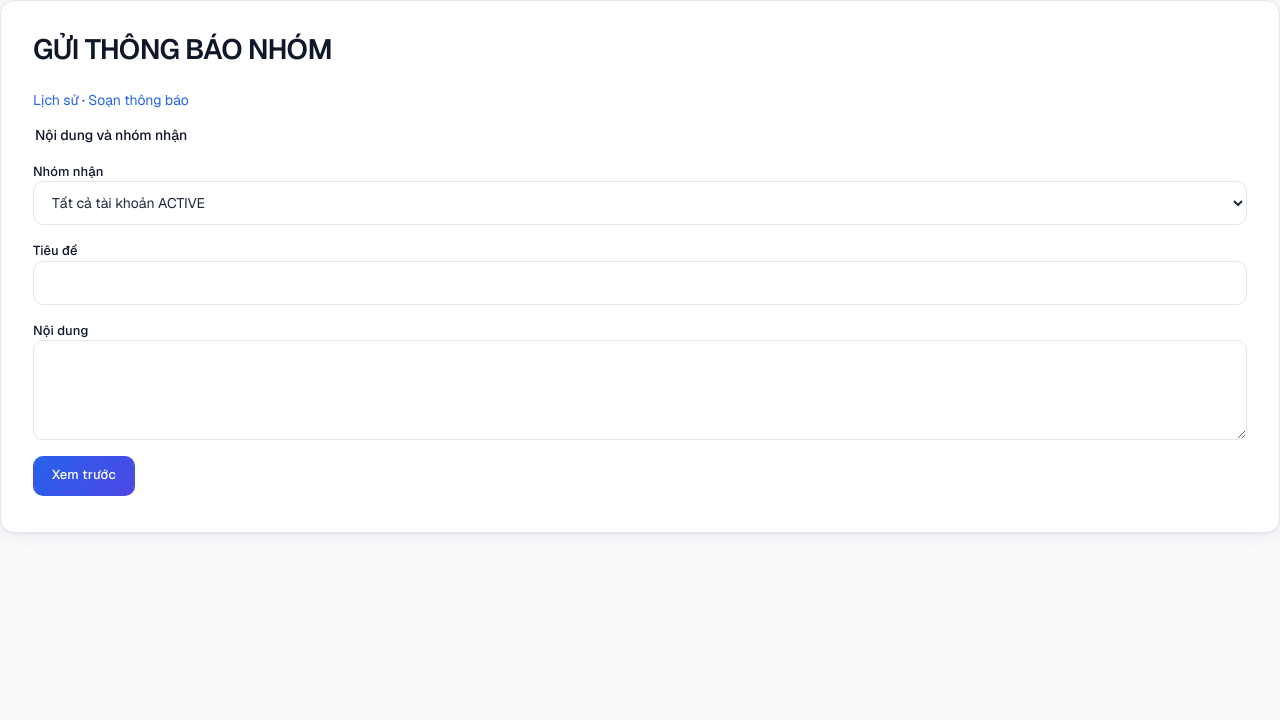
Test: US-48: giao diện preview/confirm/resolve › PREVIEW_STALE yêu cầu preview lại, không giữ nút gửi cũ
The width and height of the screenshot is (1280, 720).
In the field labelled "Tiêu đề": (640, 283) [33, 261, 1247, 305], type "<b>Lịch</b>"
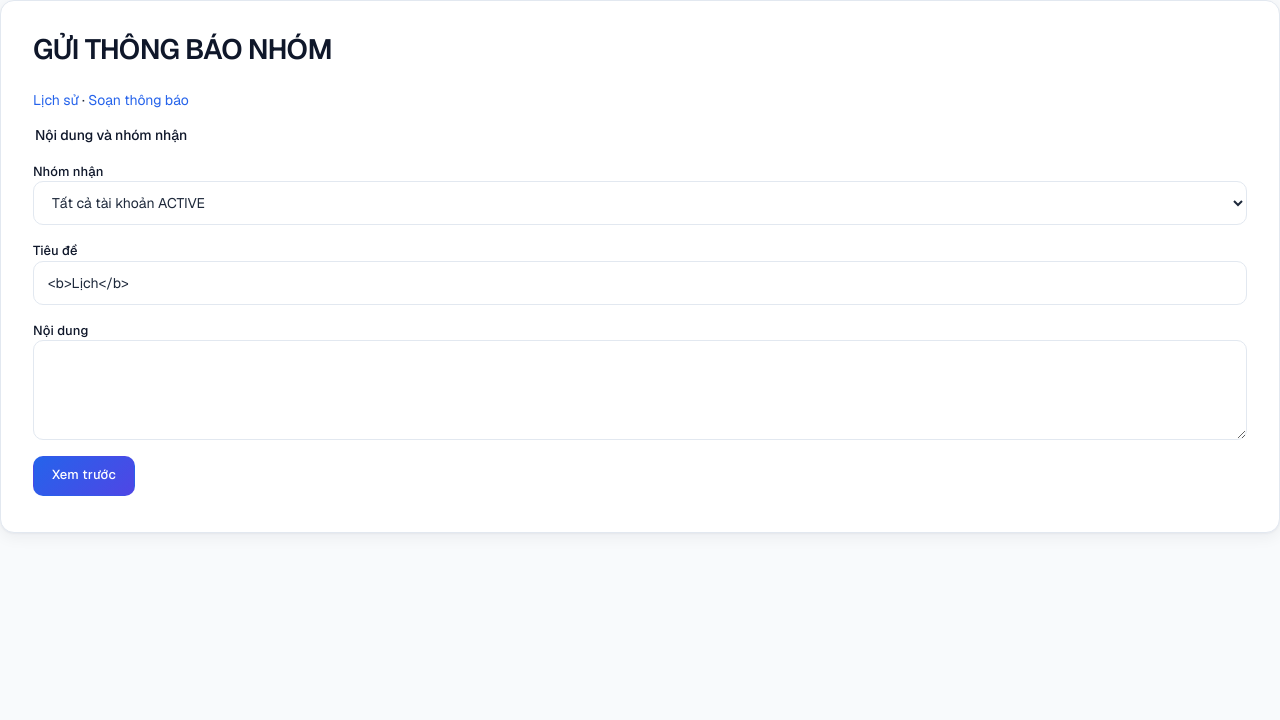
In the text box labelled "Nội dung": (640, 390) [33, 340, 1247, 440], type "<script>bad()</script>"
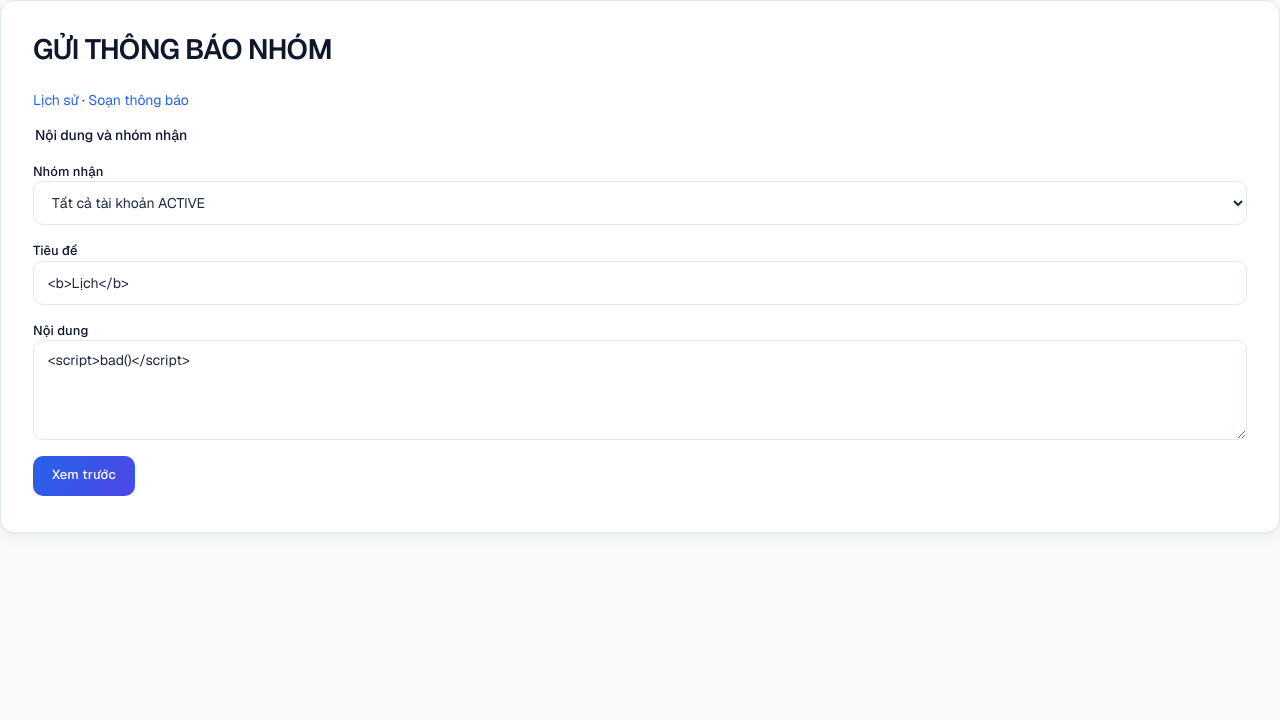
Click the button "Xem trước": (84, 476) [33, 456, 135, 496]
(page scrolled)
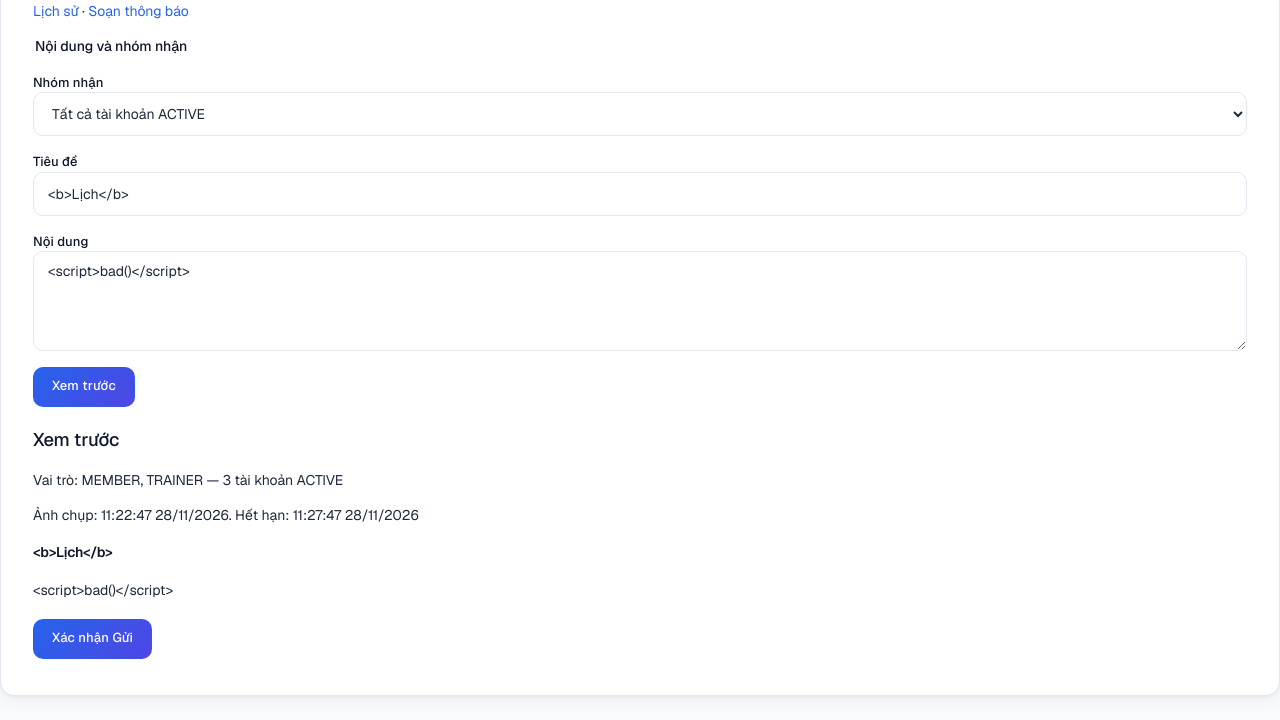
Click the button "Xác nhận Gửi": (93, 639) [33, 619, 152, 659]
(page scrolled)
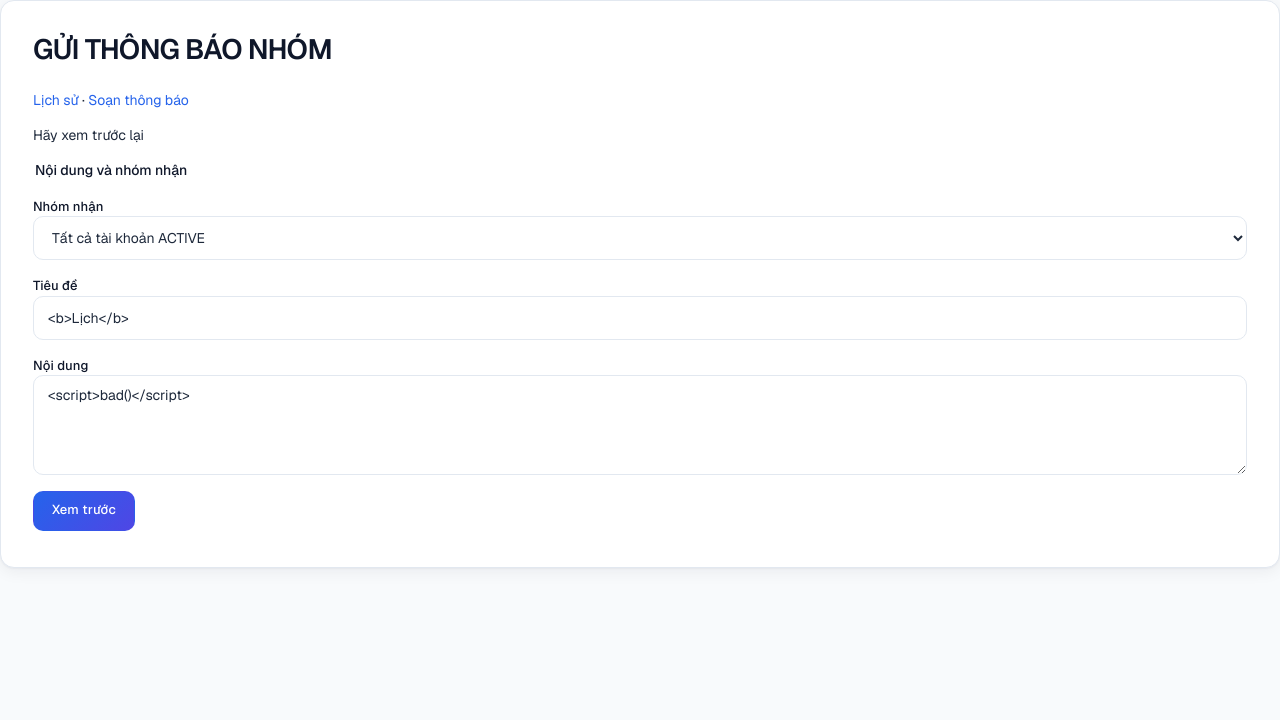
Now the text "Hãy xem trước lại" is shown, box [33, 126, 144, 144]
Now the button "Xác nhận Gửi" is gone
